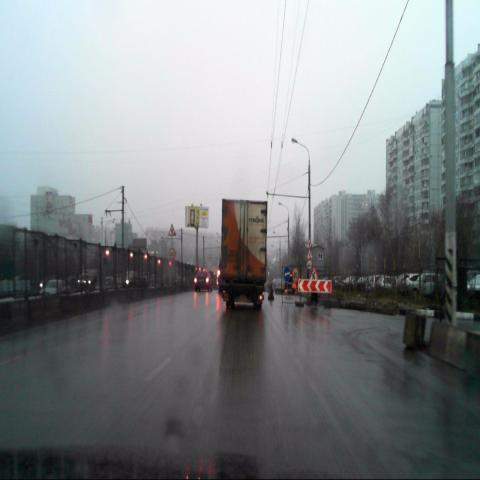1_25: (309, 266, 318, 280)
4_1_2_2: (284, 266, 290, 282)
